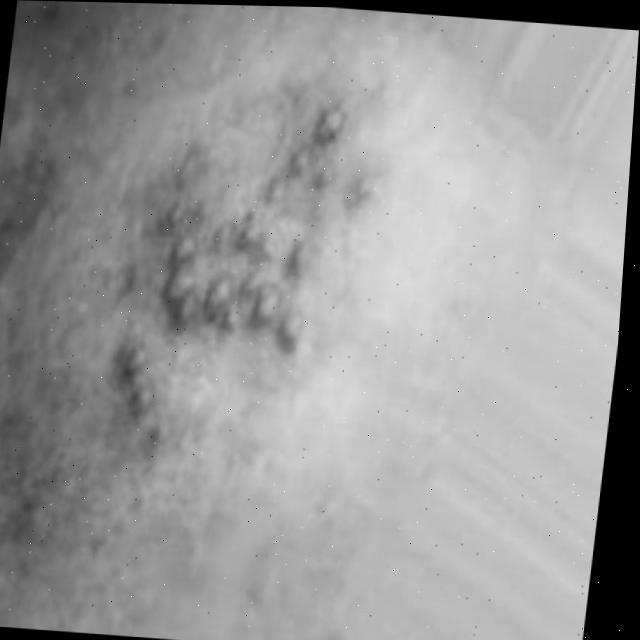Shingles: (85, 85, 399, 453)
